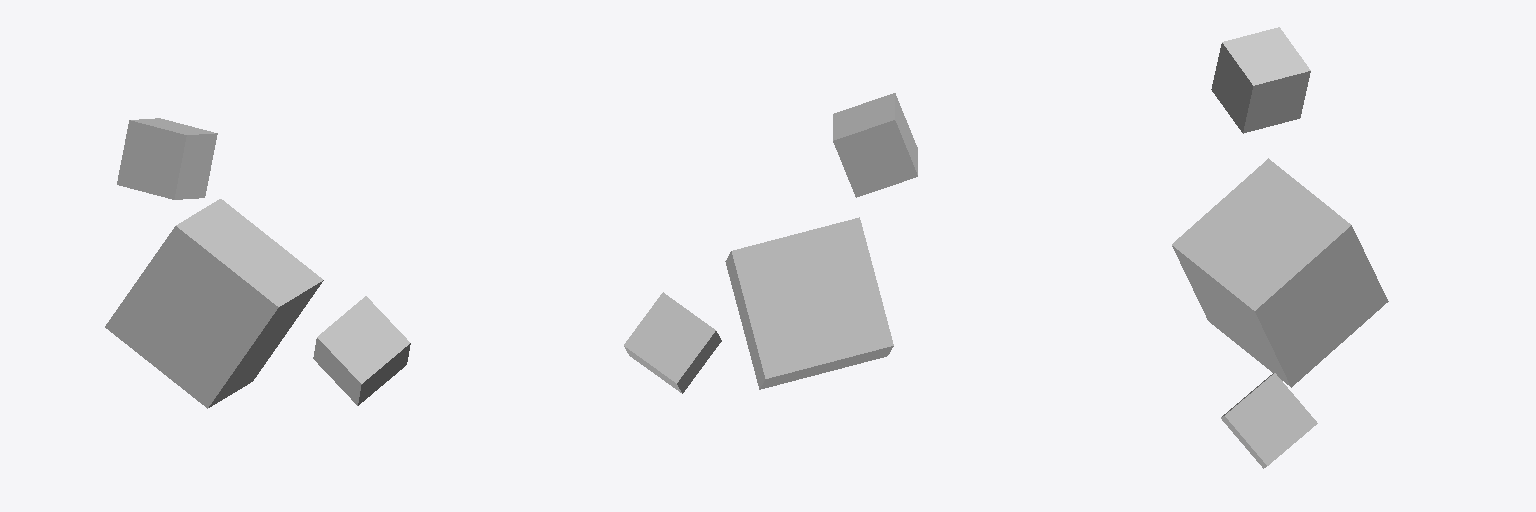
File: cube_litter_3.obj
The picture shows the model from 3 angles: view 1: azimuth 30°, elevation 25°; view 2: azimuth 150°, elevation 25°; view 3: azimuth 270°, elevation 25°; orthographic projection.
Visible parts, largest first — view 1: Cube_Cube.001, Cube.002_Cube.003, Cube.001_Cube.002; view 2: Cube_Cube.001, Cube.002_Cube.003, Cube.001_Cube.002; view 3: Cube_Cube.001, Cube.002_Cube.003, Cube.001_Cube.002.
Part boxes in pixels (bbox=[...]): Cube_Cube.001: bbox=[105, 199, 323, 408]; Cube.002_Cube.003: bbox=[117, 118, 217, 199]; Cube.001_Cube.002: bbox=[313, 296, 410, 405]; Cube_Cube.001: bbox=[725, 217, 893, 389]; Cube.002_Cube.003: bbox=[833, 93, 917, 197]; Cube.001_Cube.002: bbox=[624, 292, 721, 393]; Cube_Cube.001: bbox=[1172, 158, 1388, 387]; Cube.002_Cube.003: bbox=[1211, 27, 1310, 133]; Cube.001_Cube.002: bbox=[1221, 373, 1317, 468].
Size of the model in its own units: 0.7539 by 0.8308 by 0.4894.